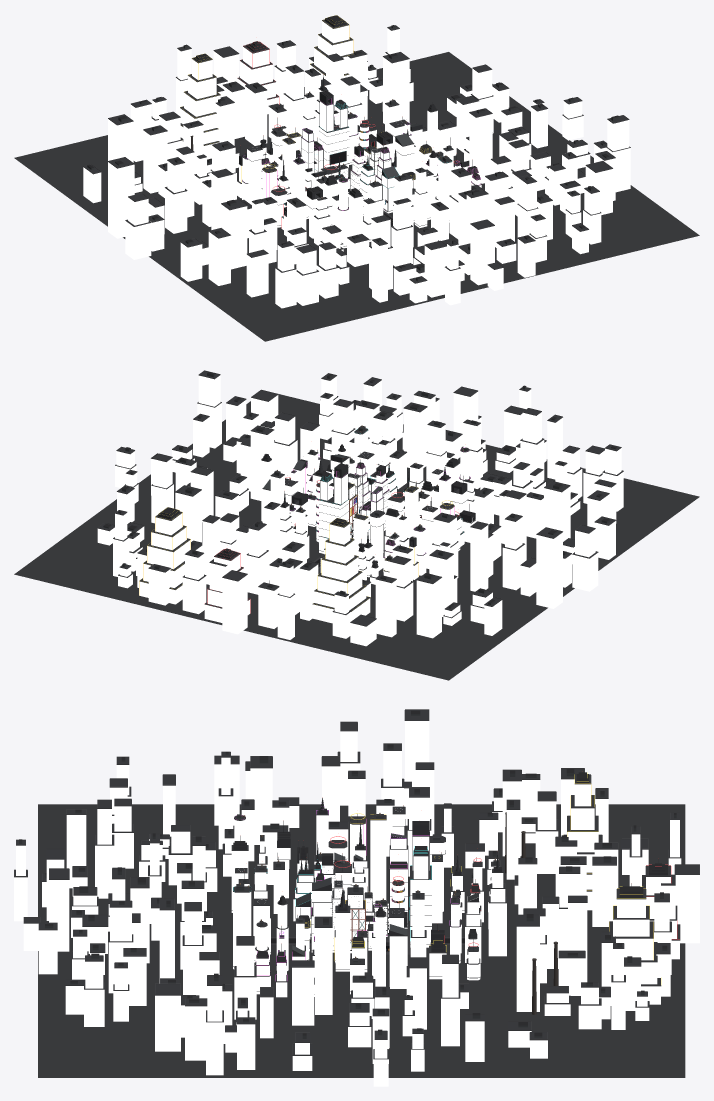
File: neon_city.glb
3 views of the same model, one above another, from view 1: azimuth 30°, elevation 25°; view 2: azimuth 150°, elevation 25°; view 3: azimuth 270°, elevation 25° (orthographic). The views are drawn at different scales.
Visible parts, largest first — view 1: Ground_Far, Skyline_S, Skyline_W, Skyline_N, Skyline_E, Midring_SW, Arcologies, Midring_SE, Midring_NE, Midring_NW, Billboard_Tower, Bldg_L_Gate (+1 smaller); view 2: Ground_Far, Skyline_W, Skyline_N, Skyline_S, Skyline_E, Arcologies, Midring_NW, Midring_SW, Midring_NE, Midring_SE, Billboard_Tower, Bldg_L_Gate; view 3: Ground_Far, Skyline_S, Skyline_N, Skyline_E, Skyline_W, Midring_NE, Midring_SE, Arcologies, Midring_SW, Midring_NW, Billboard_Tower, Bldg_L_Gate (+2 smaller).
Part boxes in pixels (left/top/right/bottom): Ground_Far: left=14, top=52, right=699, bottom=341; Skyline_S: left=296, top=155, right=601, bottom=305; Skyline_W: left=83, top=114, right=308, bottom=308; Skyline_N: left=130, top=25, right=413, bottom=167; Skyline_E: left=422, top=64, right=630, bottom=216; Midring_SW: left=262, top=150, right=383, bottom=248; Arcologies: left=180, top=15, right=355, bottom=159; Midring_SE: left=391, top=129, right=481, bottom=228; Midring_NE: left=303, top=75, right=437, bottom=168; Midring_NW: left=237, top=117, right=301, bottom=204; Billboard_Tower: left=319, top=90, right=348, bottom=176; Bldg_L_Gate: left=301, top=128, right=323, bottom=173; Ground_Far: left=14, top=394, right=699, bottom=680; Skyline_W: left=392, top=444, right=623, bottom=638; Skyline_N: left=113, top=485, right=413, bottom=646; Skyline_S: left=319, top=373, right=604, bottom=515; Skyline_E: left=97, top=370, right=319, bottom=545; Arcologies: left=139, top=507, right=370, bottom=623; Midring_NW: left=324, top=486, right=437, bottom=584; Midring_SW: left=388, top=447, right=475, bottom=551; Midring_NE: left=261, top=454, right=316, bottom=563; Midring_SE: left=285, top=425, right=390, bottom=495; Billboard_Tower: left=319, top=463, right=348, bottom=553; Bldg_L_Gate: left=361, top=486, right=383, bottom=552; Ground_Far: left=38, top=804, right=685, bottom=1077; Skyline_S: left=14, top=778, right=217, bottom=1026; Skyline_N: left=514, top=788, right=699, bottom=1029; Skyline_E: left=155, top=916, right=547, bottom=1086; Skyline_W: left=116, top=709, right=584, bottom=884; Midring_NE: left=357, top=852, right=506, bottom=988; Midring_SE: left=232, top=872, right=364, bottom=997; Arcologies: left=563, top=772, right=680, bottom=1004; Midring_SW: left=231, top=797, right=368, bottom=921; Midring_NW: left=370, top=805, right=491, bottom=930; Billboard_Tower: left=410, top=821, right=431, bottom=947; Bldg_L_Gate: left=389, top=833, right=408, bottom=926.
Bounding box in the file's own units: 1279 × 259 × 1271.
Materials: 51 (16 with a texture image).
